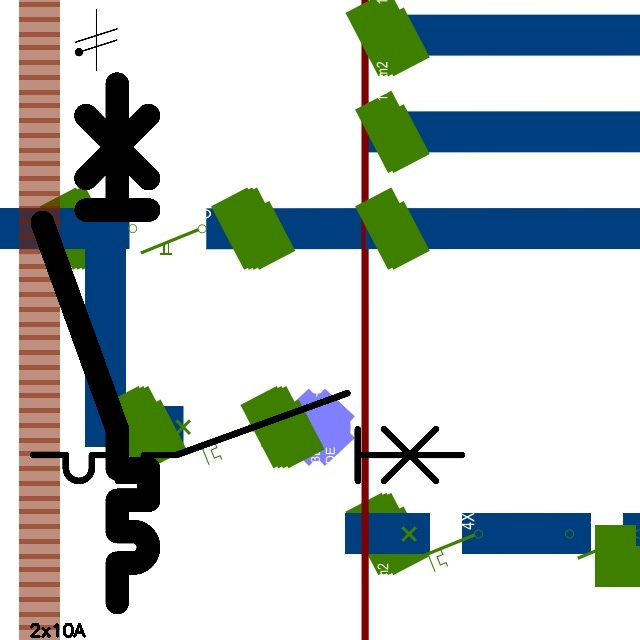interruptor_termomagnetico: (29, 70, 162, 615), (22, 382, 473, 492)
